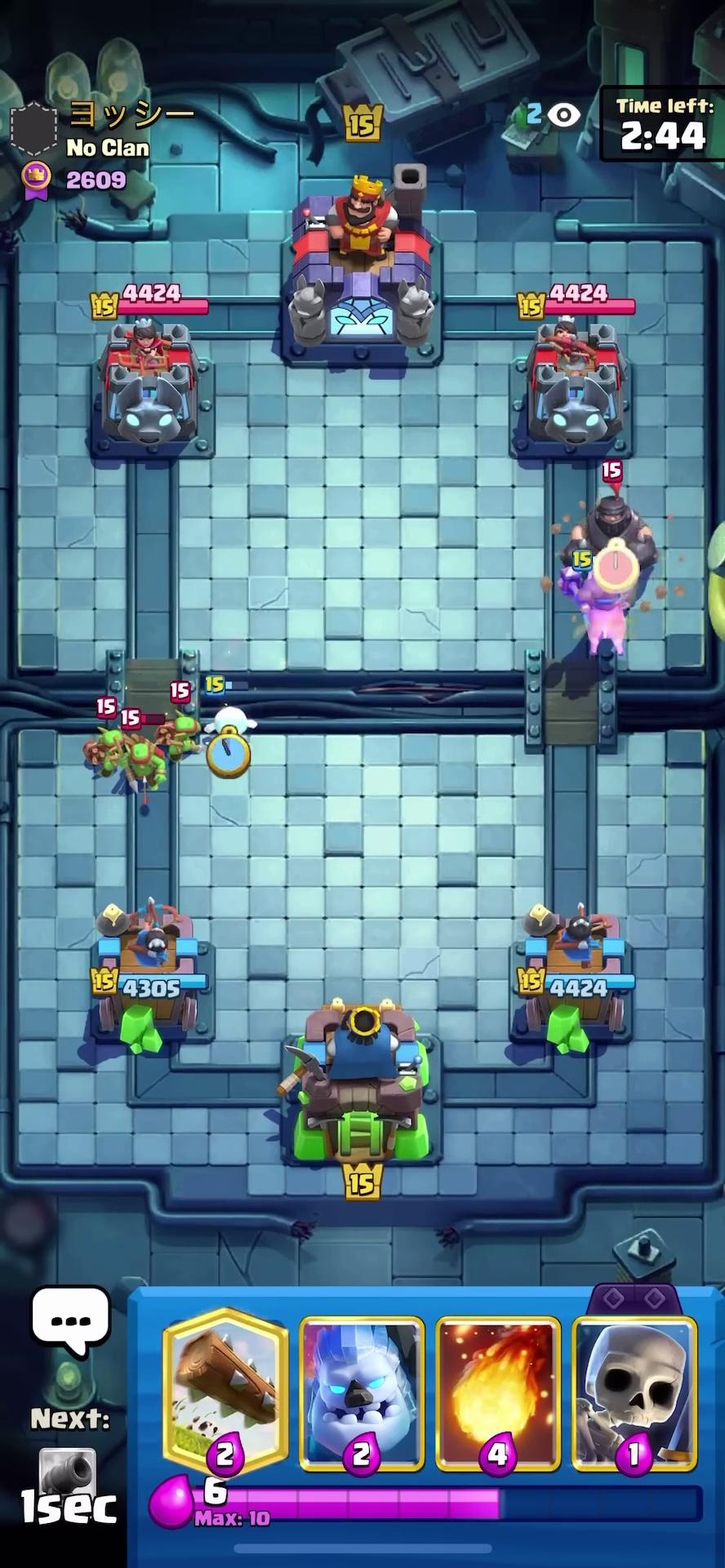hog_rider: (553, 555, 643, 647)
ice_spirit: (202, 688, 263, 745)
